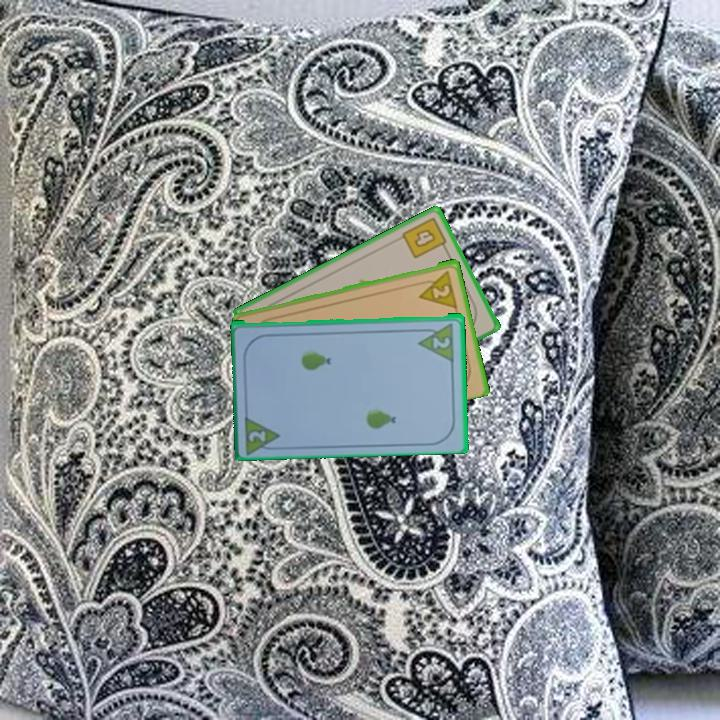2p: (413, 266, 460, 310), (241, 410, 284, 455), (430, 333, 453, 351)
4b: (398, 213, 451, 261)
